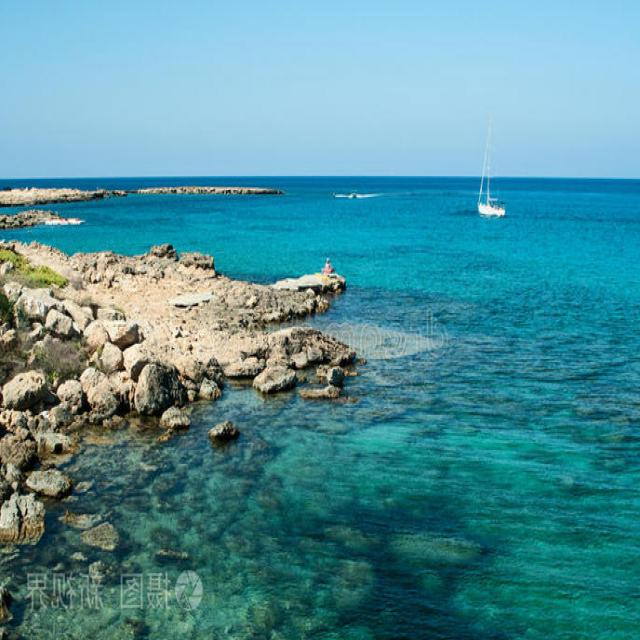reef: (141, 228, 367, 425), (163, 175, 293, 205)
sailboat: (466, 126, 511, 229)
